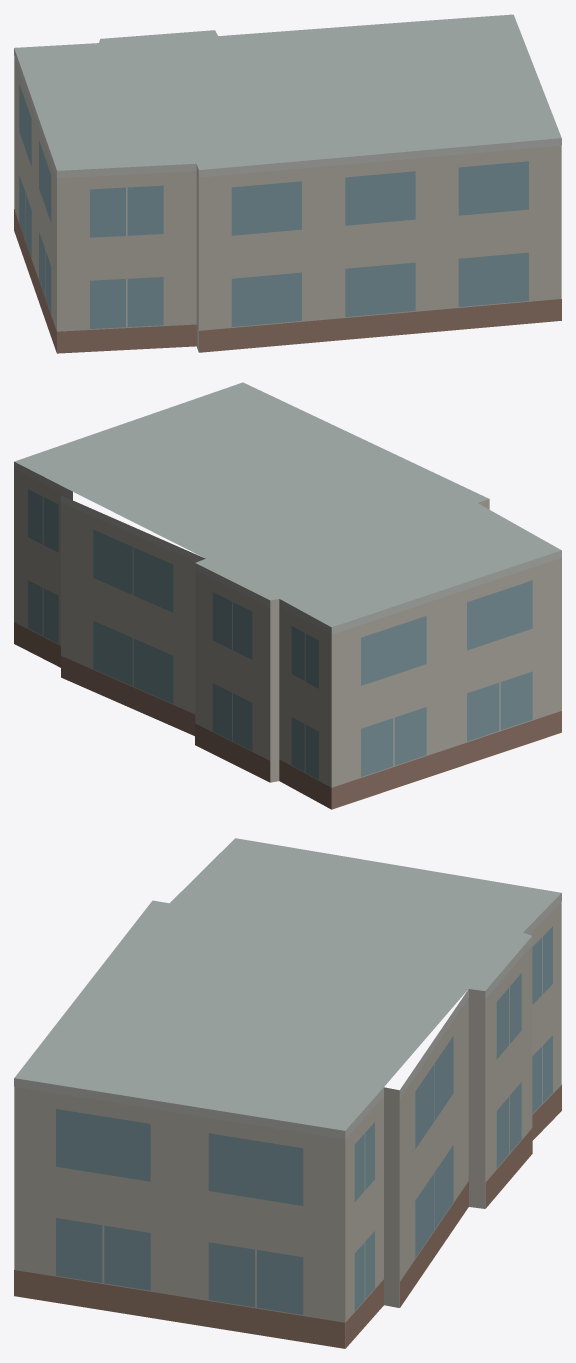
File: survey-upis-32527387.glb
The picture shows the model from 3 angles, top to bottom: view 1: azimuth 30°, elevation 25°; view 2: azimuth 150°, elevation 25°; view 3: azimuth 270°, elevation 25°; orthographic projection. The views are drawn at different scales.
Visible parts, largest first — view 1: survey-upis-32527387.tmp; view 2: survey-upis-32527387.tmp; view 3: survey-upis-32527387.tmp.
Boxes of the visible parts, box(x1,y1,x2,y2) form: survey-upis-32527387.tmp: box(14, 14, 561, 353); survey-upis-32527387.tmp: box(14, 382, 561, 809); survey-upis-32527387.tmp: box(14, 838, 561, 1348).
Size of the model in its own units: 17.59 by 6.1 by 13.9.
